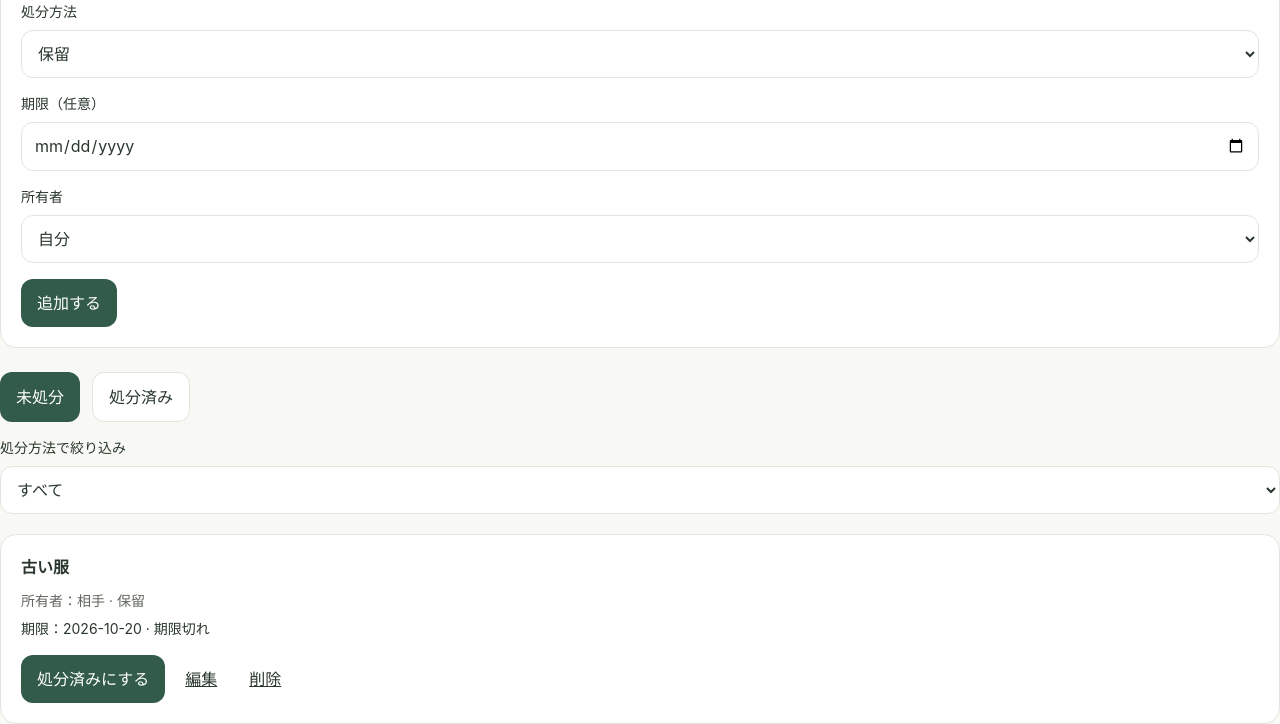
Test: 保留の完了は変更を送らず案内し、処分済み削除は完了情報の消失も示す
This screenshot has width=1280, height=724.
(page scrolled)
Click the button with aria-label "処分済みにする：古い服" at {"x": 93, "y": 679}, box [21, 655, 165, 703]
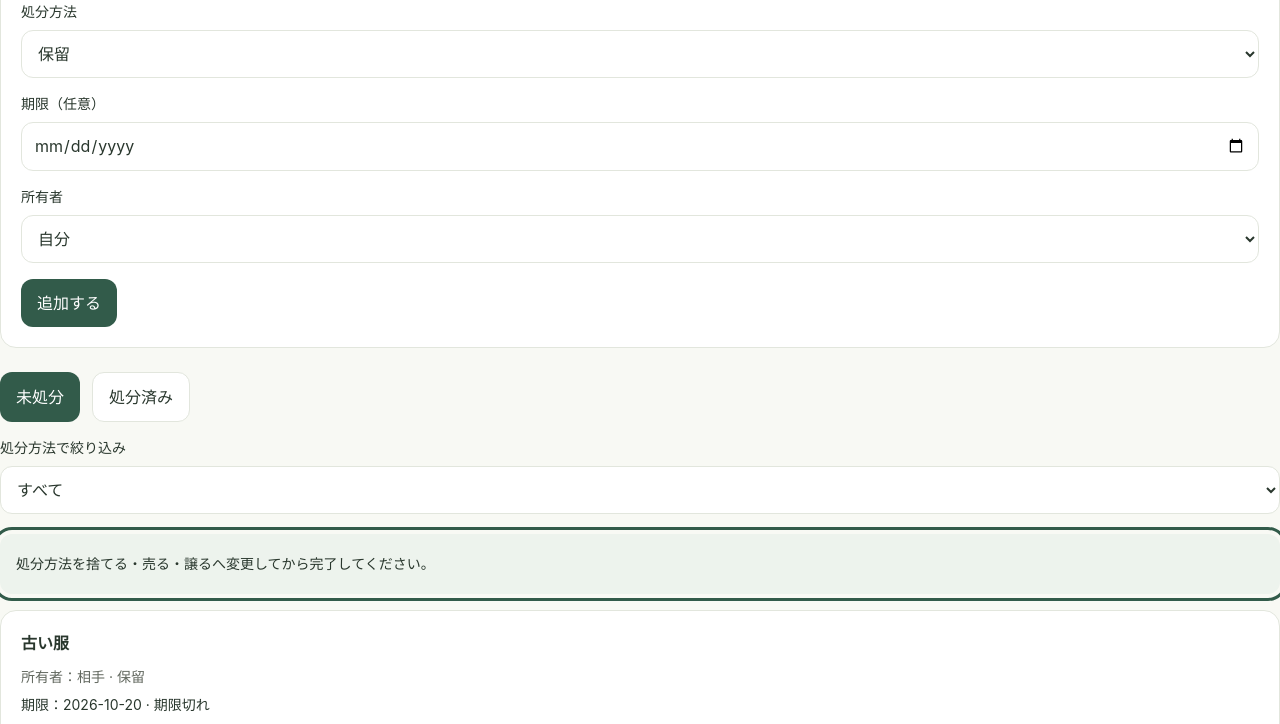
Expected: the text "処分方法を捨てる・売る・譲るへ変更してから完了してください。" is shown, [0, 534, 1279, 594]
Click the button "処分済み" at {"x": 141, "y": 397}, box [92, 372, 190, 422]
(page scrolled)
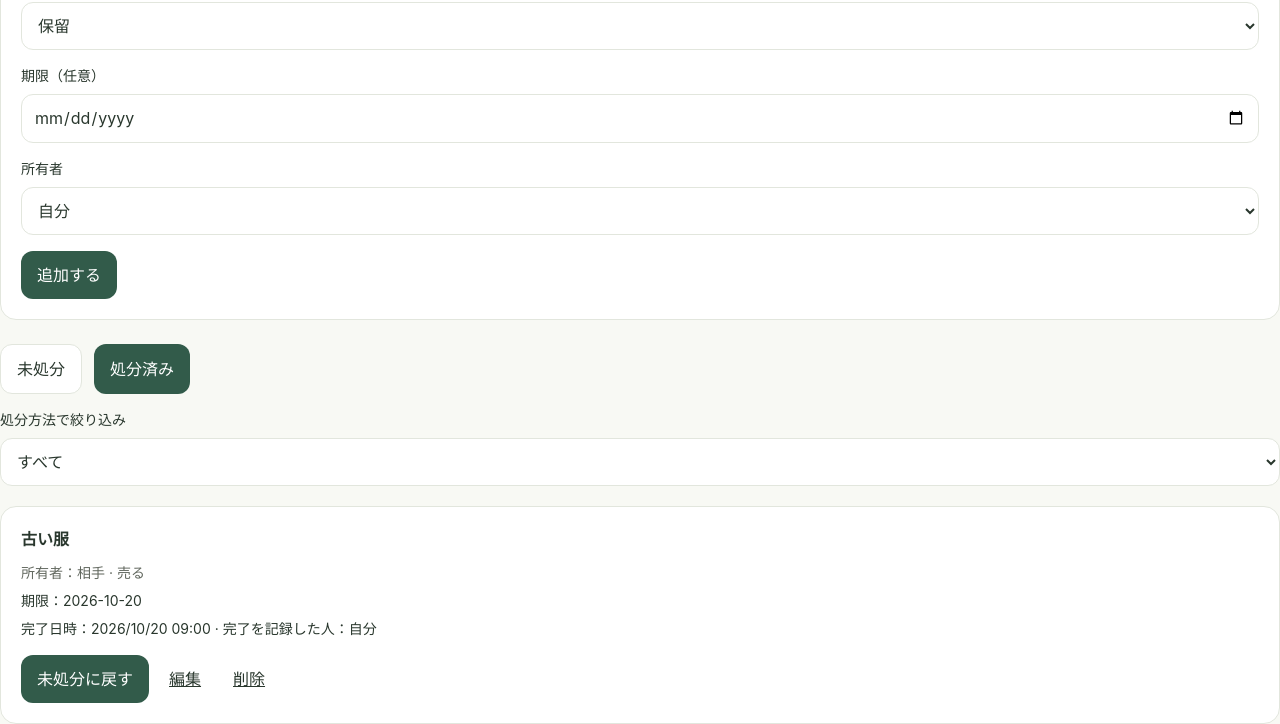
Expected: the text "完了日時：2026/10/20 09:00 · 完了を記録した人：自分" is shown, [21, 620, 377, 637]
Click the button with aria-label "削除：古い服" at {"x": 249, "y": 679}, box [221, 655, 277, 703]
(page scrolled)
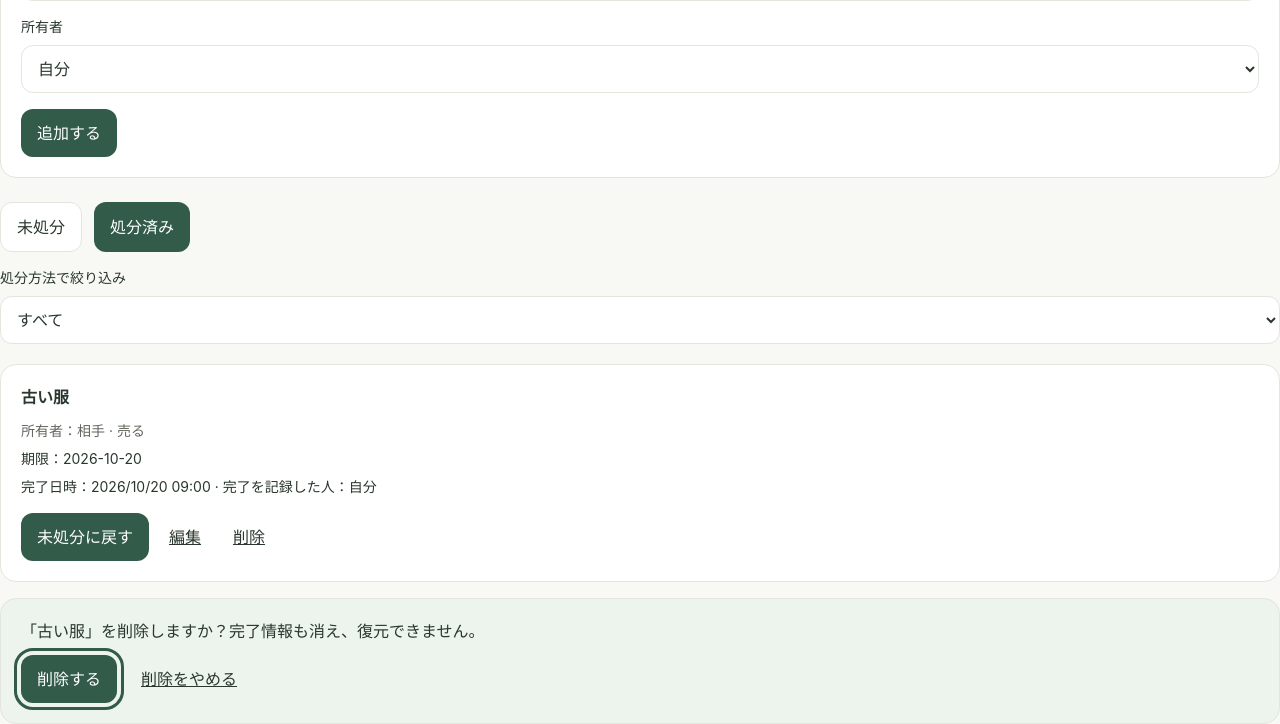
Expected: the element named "削除の確認" shows "完了情報も消え", [229, 621, 484, 641]
